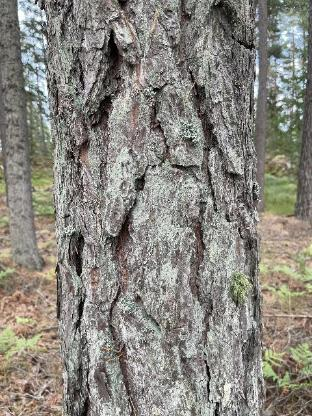tree: (32, 0, 277, 416)
